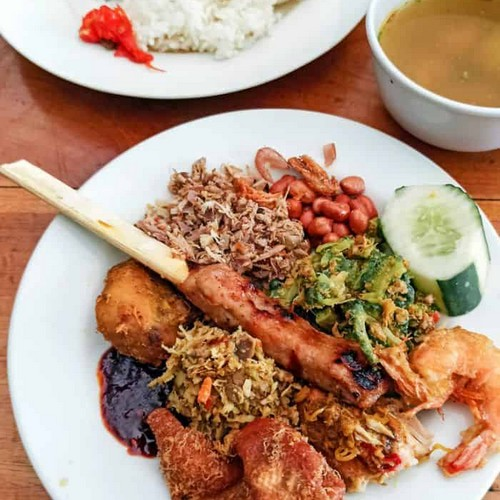nasi campur bali: (70, 182, 423, 487)
